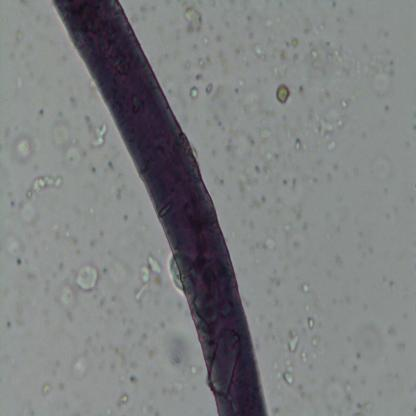Background material: (352, 312, 382, 367), (134, 253, 163, 303), (306, 109, 350, 139), (168, 332, 191, 372), (25, 176, 63, 198), (56, 278, 82, 310), (374, 56, 394, 97), (13, 134, 36, 165), (77, 264, 101, 291), (88, 122, 108, 152), (16, 201, 40, 225), (64, 140, 87, 164), (52, 120, 71, 148), (184, 8, 204, 34), (168, 256, 183, 290), (372, 154, 390, 180), (108, 261, 127, 285), (248, 239, 277, 254), (6, 233, 24, 256), (283, 359, 296, 386), (238, 174, 256, 193), (74, 355, 88, 379), (116, 388, 132, 408), (165, 380, 186, 395), (226, 135, 237, 163), (286, 329, 298, 354), (309, 48, 324, 68), (252, 43, 267, 62), (276, 84, 290, 104), (116, 345, 131, 363), (304, 22, 326, 34), (141, 403, 161, 416), (294, 280, 310, 295), (328, 50, 344, 64), (194, 56, 208, 71), (260, 108, 275, 122), (345, 378, 353, 404), (51, 224, 64, 240), (272, 65, 288, 78), (290, 204, 302, 221), (262, 18, 275, 33), (12, 26, 25, 41), (83, 114, 95, 130), (311, 331, 322, 348), (211, 86, 224, 100), (283, 222, 293, 240), (313, 294, 324, 310), (51, 358, 60, 376), (354, 61, 362, 81), (66, 235, 80, 246), (189, 86, 200, 100), (267, 323, 276, 340), (15, 73, 24, 89), (260, 127, 272, 139), (275, 361, 282, 381), (139, 331, 147, 348), (394, 342, 406, 353), (40, 383, 52, 394), (270, 275, 281, 287), (216, 30, 225, 44), (306, 316, 315, 330), (302, 344, 308, 364), (64, 311, 76, 321), (12, 316, 24, 326), (251, 197, 261, 208), (339, 97, 349, 108), (263, 161, 273, 172), (246, 134, 255, 146), (215, 176, 225, 186), (334, 255, 343, 266), (162, 50, 171, 61), (118, 188, 126, 200), (33, 246, 41, 258), (37, 107, 45, 119), (71, 96, 79, 108), (56, 262, 65, 272), (205, 83, 214, 93), (267, 31, 276, 41), (106, 163, 115, 173), (328, 141, 336, 152), (103, 408, 114, 416), (284, 122, 290, 136), (125, 328, 134, 337), (130, 374, 139, 383), (158, 318, 166, 328), (364, 402, 372, 412), (26, 271, 36, 279), (122, 316, 132, 324), (388, 325, 396, 335), (191, 366, 199, 376), (98, 298, 106, 308), (196, 73, 204, 83), (208, 0, 218, 8), (291, 178, 297, 191), (280, 49, 287, 60), (110, 292, 117, 303), (300, 392, 308, 401), (15, 257, 23, 266), (89, 345, 97, 354), (311, 176, 319, 185), (293, 37, 299, 49), (6, 319, 13, 329), (245, 14, 252, 24), (178, 0, 188, 7), (245, 104, 255, 111), (388, 278, 395, 288), (172, 49, 178, 60), (254, 166, 262, 174), (58, 383, 66, 391), (42, 307, 50, 315), (361, 42, 369, 50), (273, 208, 281, 216), (248, 221, 256, 229), (355, 401, 363, 409), (294, 140, 301, 149), (121, 214, 128, 223), (89, 238, 96, 247), (209, 150, 218, 157), (292, 52, 299, 61), (347, 6, 354, 15), (293, 240, 299, 250), (411, 381, 416, 393), (273, 152, 280, 160), (272, 298, 279, 306), (73, 248, 81, 255), (401, 312, 408, 320), (281, 178, 288, 186), (106, 308, 113, 316), (166, 86, 173, 94), (203, 37, 210, 45), (265, 288, 273, 295), (353, 411, 364, 416), (356, 351, 362, 360), (318, 96, 324, 105), (260, 194, 266, 203), (306, 304, 311, 314), (140, 14, 147, 21), (238, 79, 245, 86), (222, 69, 229, 76), (410, 123, 416, 131), (98, 228, 104, 236), (301, 144, 307, 152), (382, 187, 388, 195), (353, 364, 359, 372), (345, 336, 351, 344), (333, 161, 338, 170), (131, 361, 137, 368), (94, 333, 101, 339), (99, 347, 106, 353), (185, 62, 191, 69), (158, 26, 164, 33), (10, 199, 16, 206), (150, 352, 155, 360), (382, 276, 387, 284), (327, 172, 332, 180), (406, 139, 411, 147), (206, 57, 210, 67), (140, 5, 145, 13), (90, 167, 96, 173), (285, 42, 291, 48), (300, 85, 304, 94), (325, 42, 331, 48), (234, 88, 240, 94), (225, 21, 230, 28), (326, 90, 330, 98), (358, 242, 362, 250), (412, 181, 416, 189), (370, 246, 374, 254), (304, 223, 308, 231), (331, 0, 335, 8), (110, 364, 115, 370), (31, 71, 36, 77), (60, 252, 65, 258), (103, 267, 107, 274), (277, 16, 281, 23), (387, 105, 391, 112), (167, 318, 172, 323), (214, 115, 219, 120), (249, 34, 254, 39), (221, 128, 226, 133), (268, 154, 272, 160), (231, 42, 235, 48), (216, 122, 222, 126), (243, 221, 246, 227), (334, 298, 337, 304), (236, 50, 239, 55), (414, 406, 416, 413), (223, 61, 226, 65), (10, 192, 12, 198)
Microfibre: (52, 0, 268, 416)
